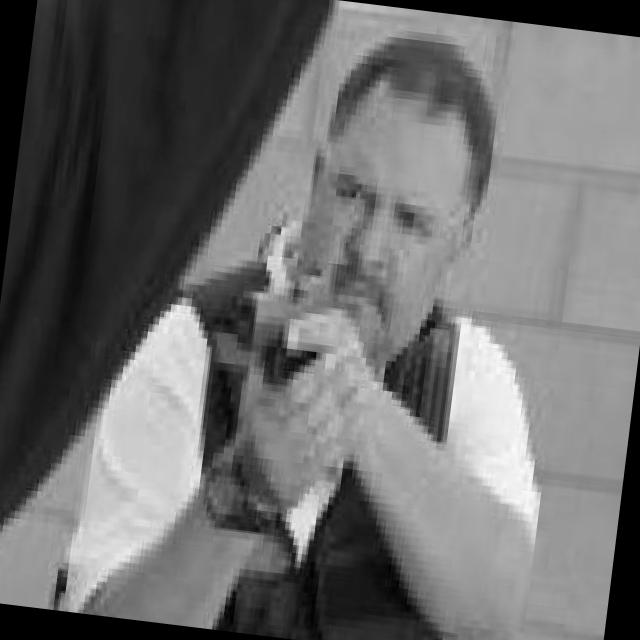Guns: (214, 253, 341, 408)
